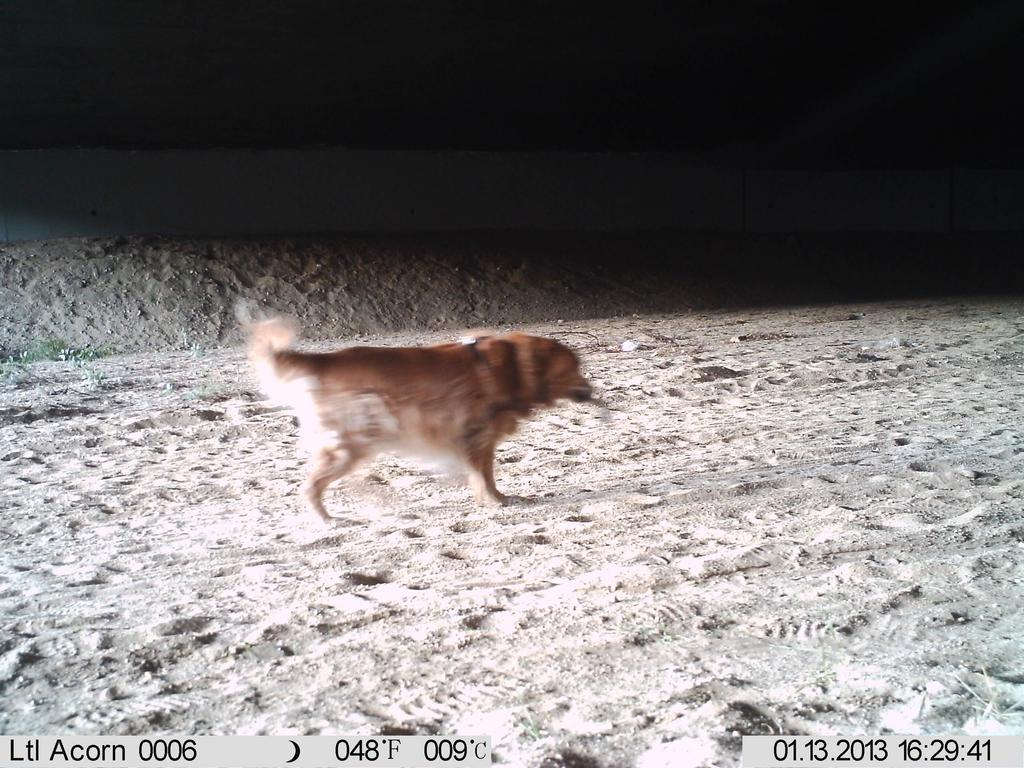dog: (251, 322, 594, 524)
